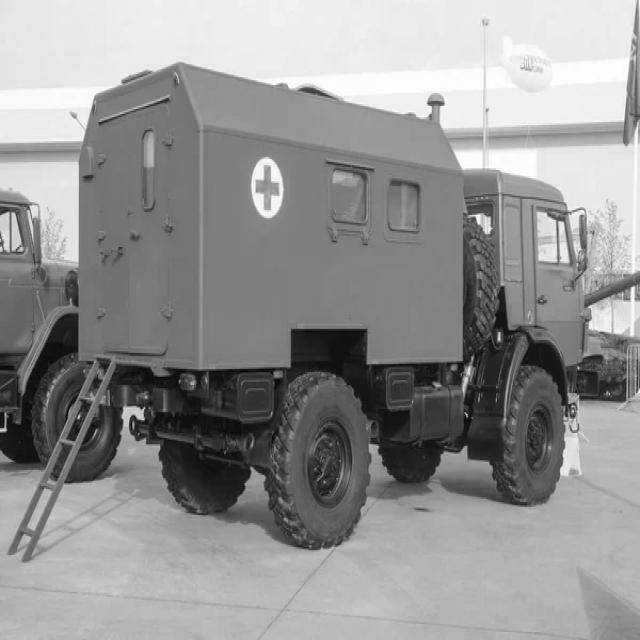Truck: (79, 62, 591, 550), (0, 189, 120, 490)
